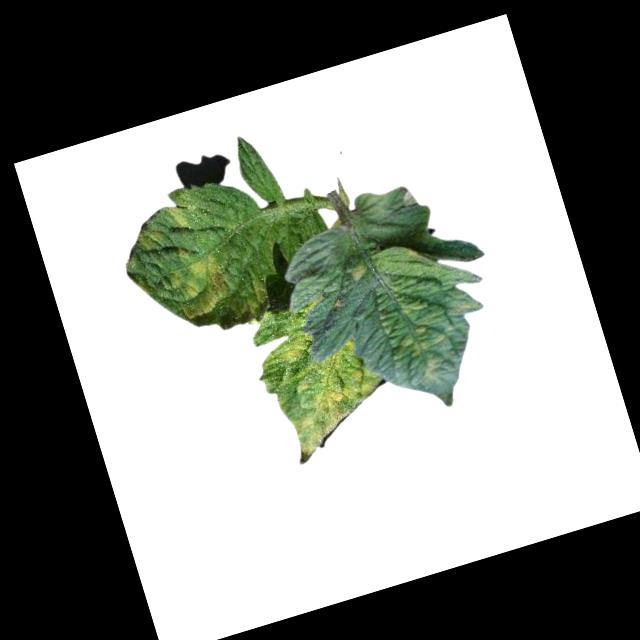Leaf_Mold: (354, 226, 503, 396), (261, 319, 385, 464), (156, 248, 233, 324), (166, 202, 193, 237)
